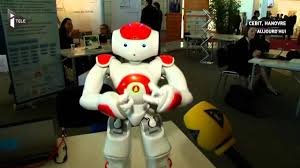nao: (77, 17, 202, 168)
